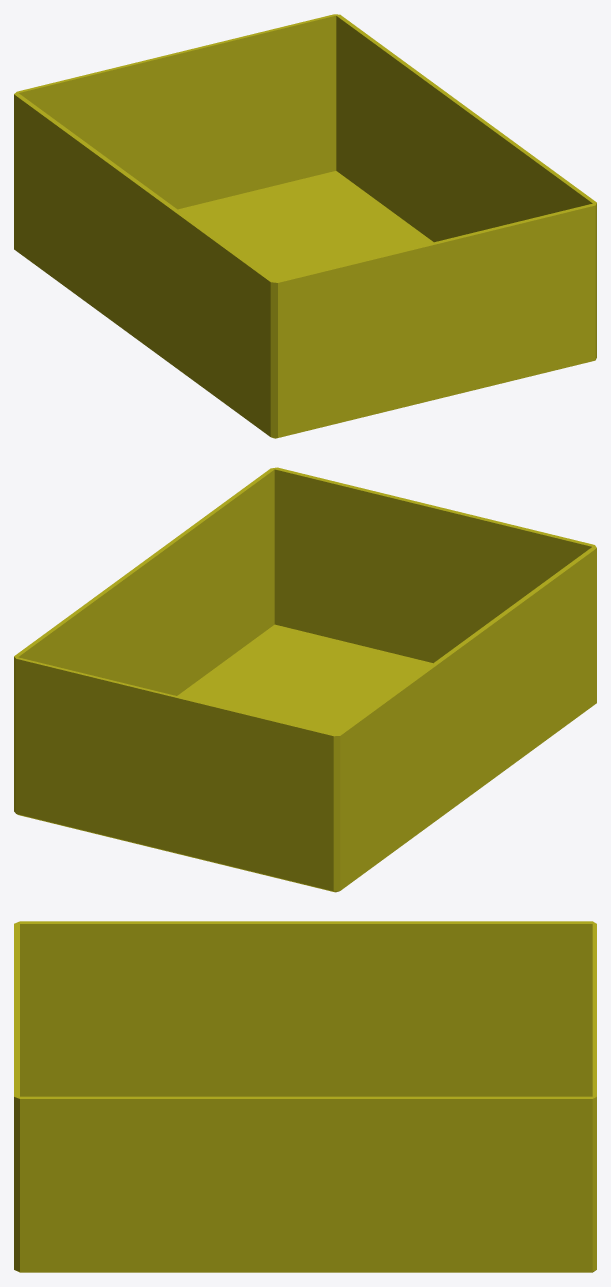
The picture shows the model from 3 angles, top to bottom: view 1: azimuth 30°, elevation 25°; view 2: azimuth 150°, elevation 25°; view 3: azimuth 270°, elevation 25°; orthographic projection. The views are drawn at different scales.
Visible parts, largest first — view 1: bin-yellow; view 2: bin-yellow; view 3: bin-yellow.
Part boxes in pixels (box(x1,y1,x2,y2)): bin-yellow: box(14, 14, 596, 438); bin-yellow: box(14, 467, 596, 892); bin-yellow: box(14, 921, 596, 1272).
Size of the model in its own units: 0.3914 by 0.543 by 0.1808.
